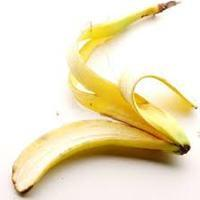biodegradable: (8, 0, 192, 195)
